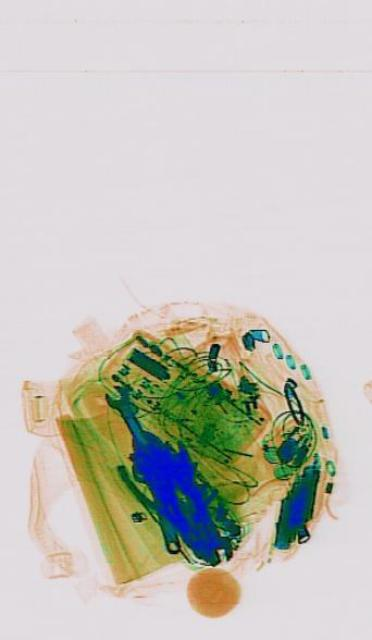Wrench: (100, 371, 153, 459)
